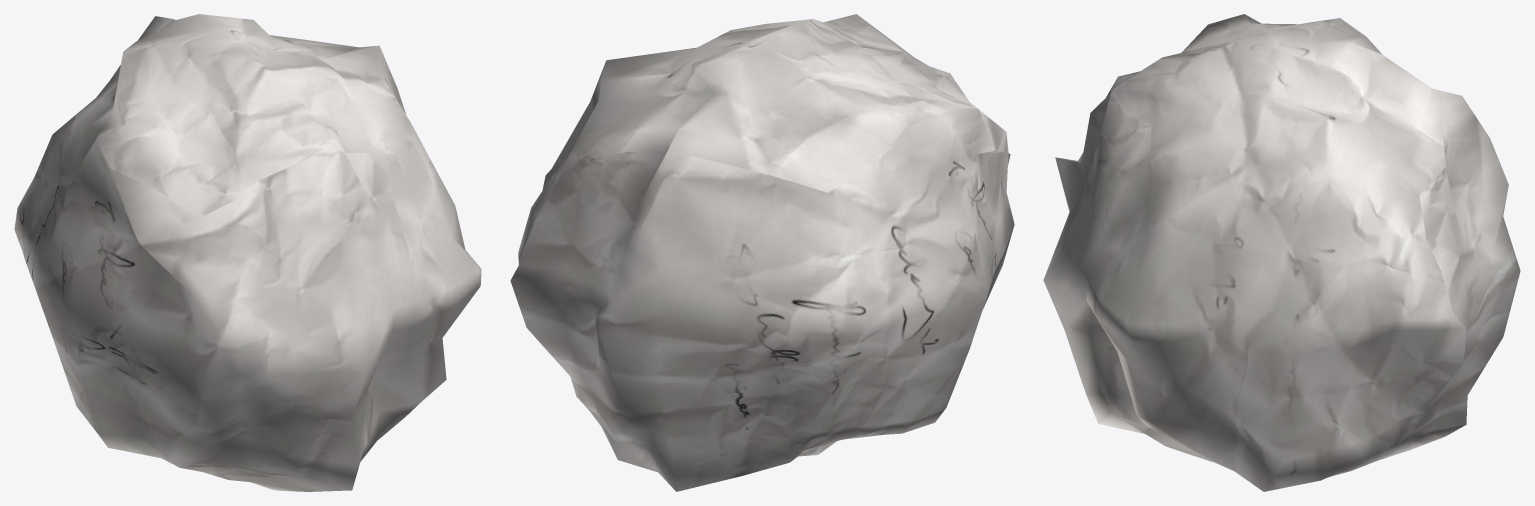
File: scrunched_paper.glb
3 renders of one model, left to right at view 1: azimuth 30°, elevation 25°; view 2: azimuth 150°, elevation 25°; view 3: azimuth 270°, elevation 25°, orthographic. The views are drawn at different scales.
Parts seen in each view (by area): view 1: pCube1; view 2: pCube1; view 3: pCube1.
Part boxes in pixels (bbox=[...]): pCube1: bbox=[14, 14, 481, 491]; pCube1: bbox=[510, 14, 1014, 491]; pCube1: bbox=[1043, 14, 1520, 491].
Bounding box in the file's own units: 7.25 × 7.36 × 7.8.
Materials: 1 (1 with a texture image).
